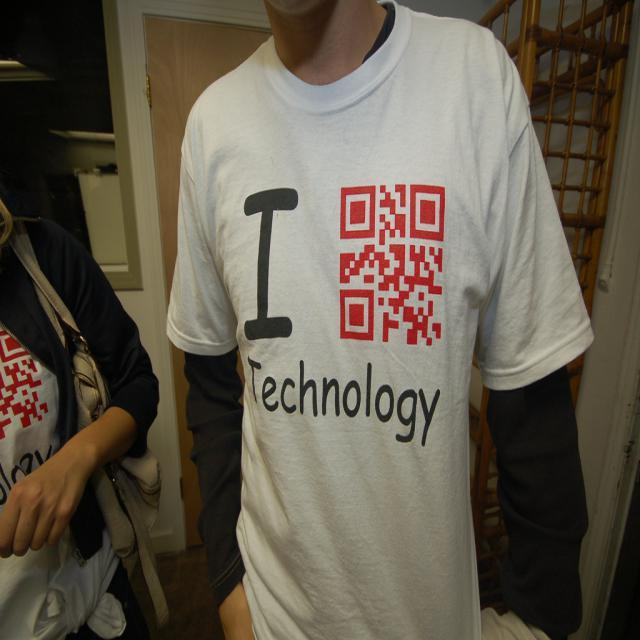qr_code: (340, 184, 444, 347), (0, 329, 48, 441)
